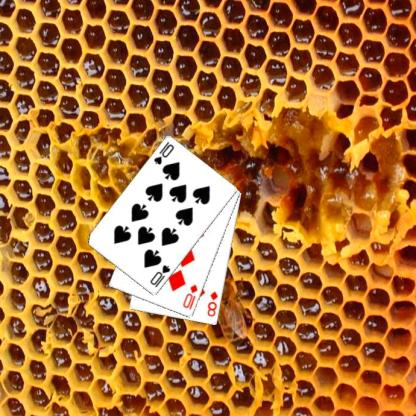10D: (180, 282, 199, 311)
10S: (147, 262, 172, 289), (152, 140, 176, 166)
8D: (204, 289, 219, 318)
